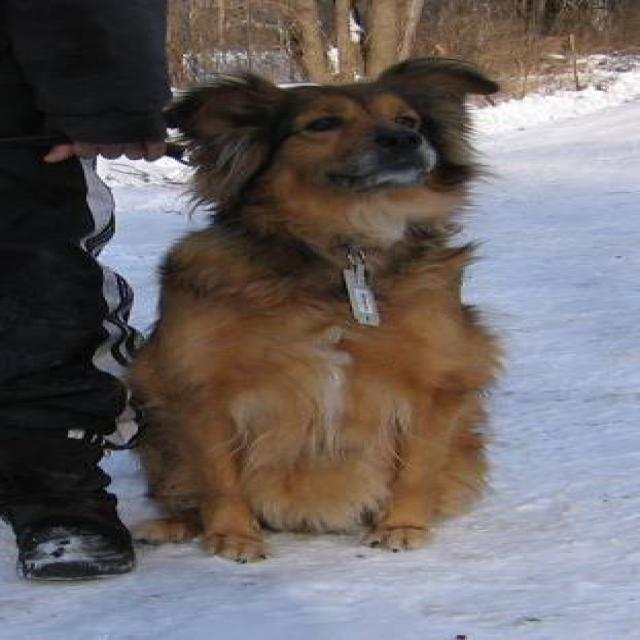dog: (122, 55, 504, 565)
